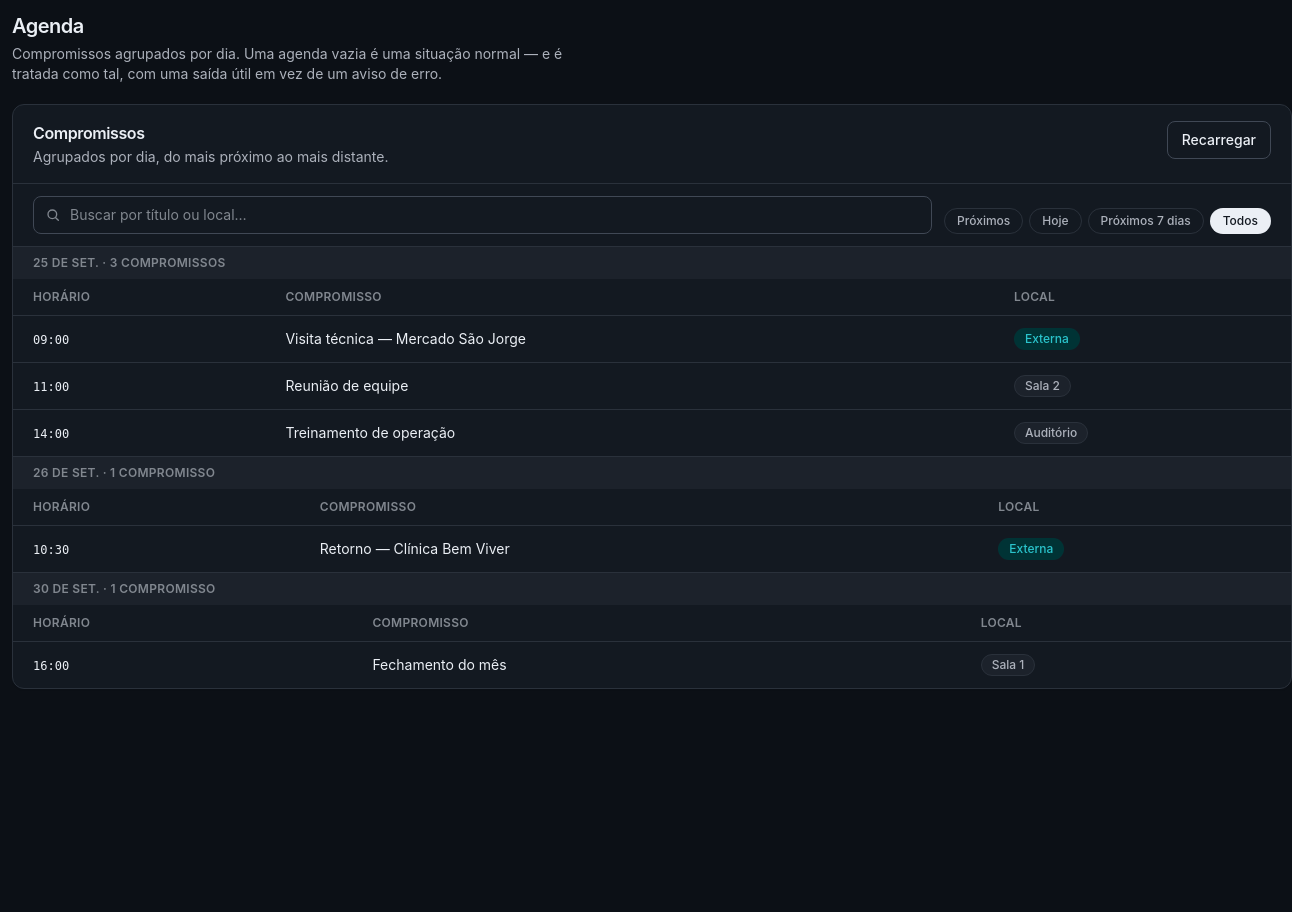
tela de agenda › filtra por período
Expected: the text "Visita técnica — Mercado São Jorge" is shown, [265, 316, 994, 362]
Step 1. Click the button "Hoje" → (1055, 221), box [1029, 208, 1082, 234]
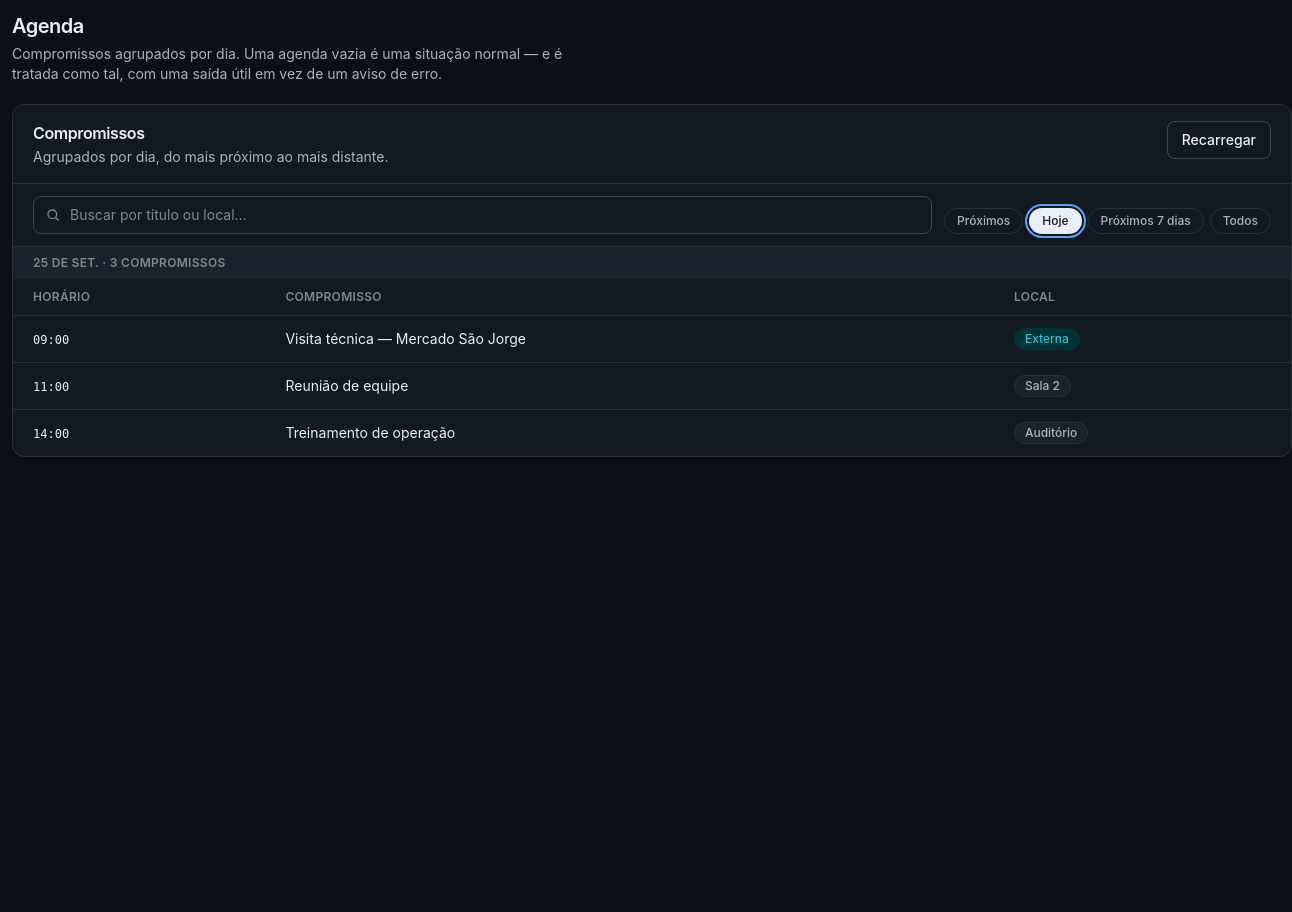
Expected: the text "Visita técnica — Mercado São Jorge" is shown, [265, 316, 994, 362]
Result: the text "Fechamento do mês" is gone
